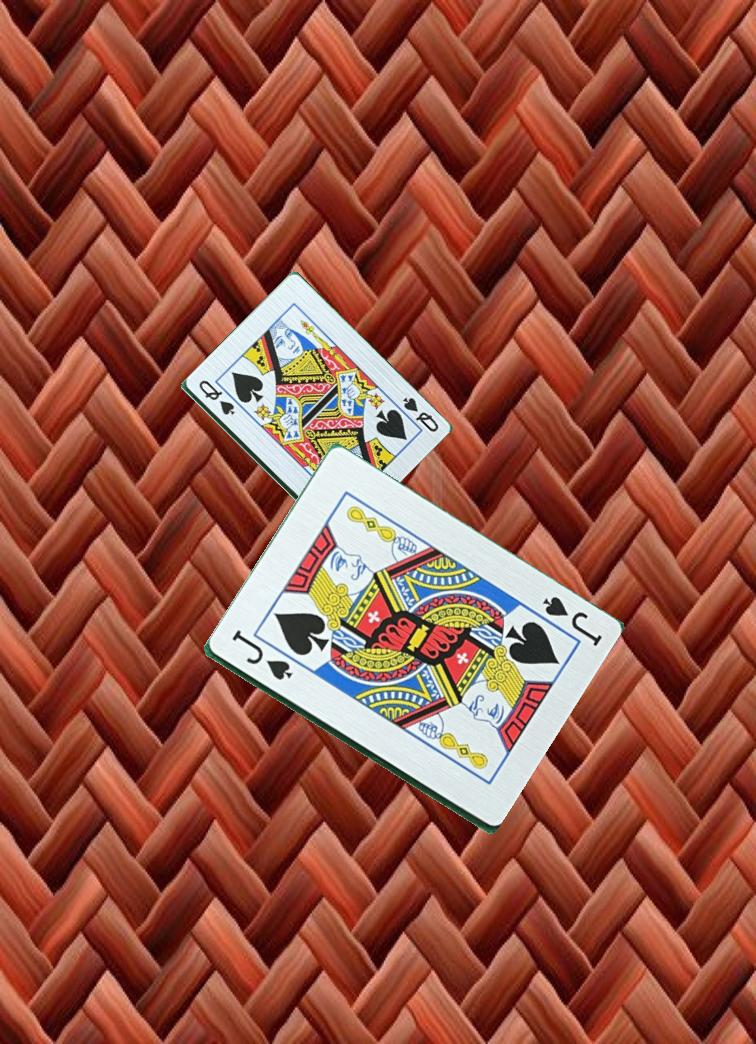js: (227, 629, 296, 684), (538, 593, 605, 649)
qs: (195, 376, 237, 418), (398, 394, 441, 435)
